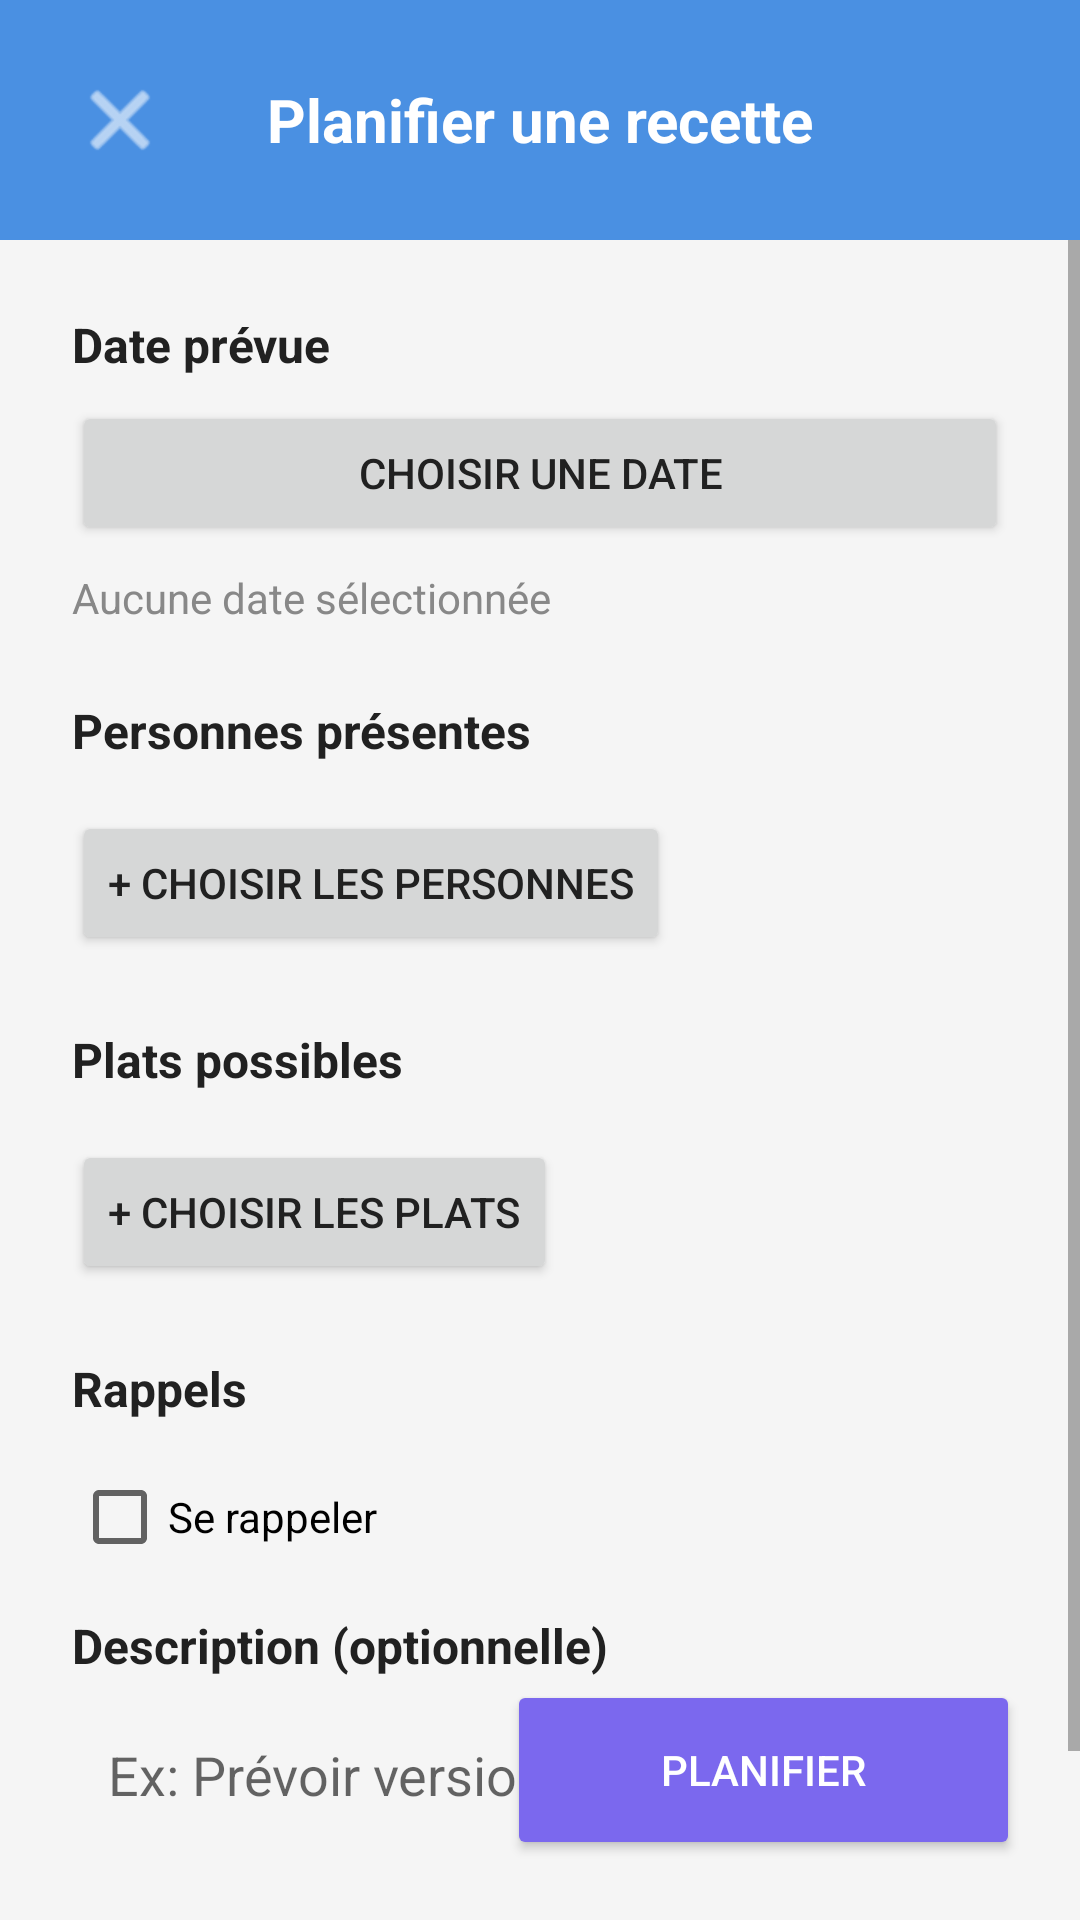

Named icons in this screenshot (1080 × 1920) and their bounding boxes, (x1, y1, x2, y2):
Retour: (90, 90, 150, 150)
